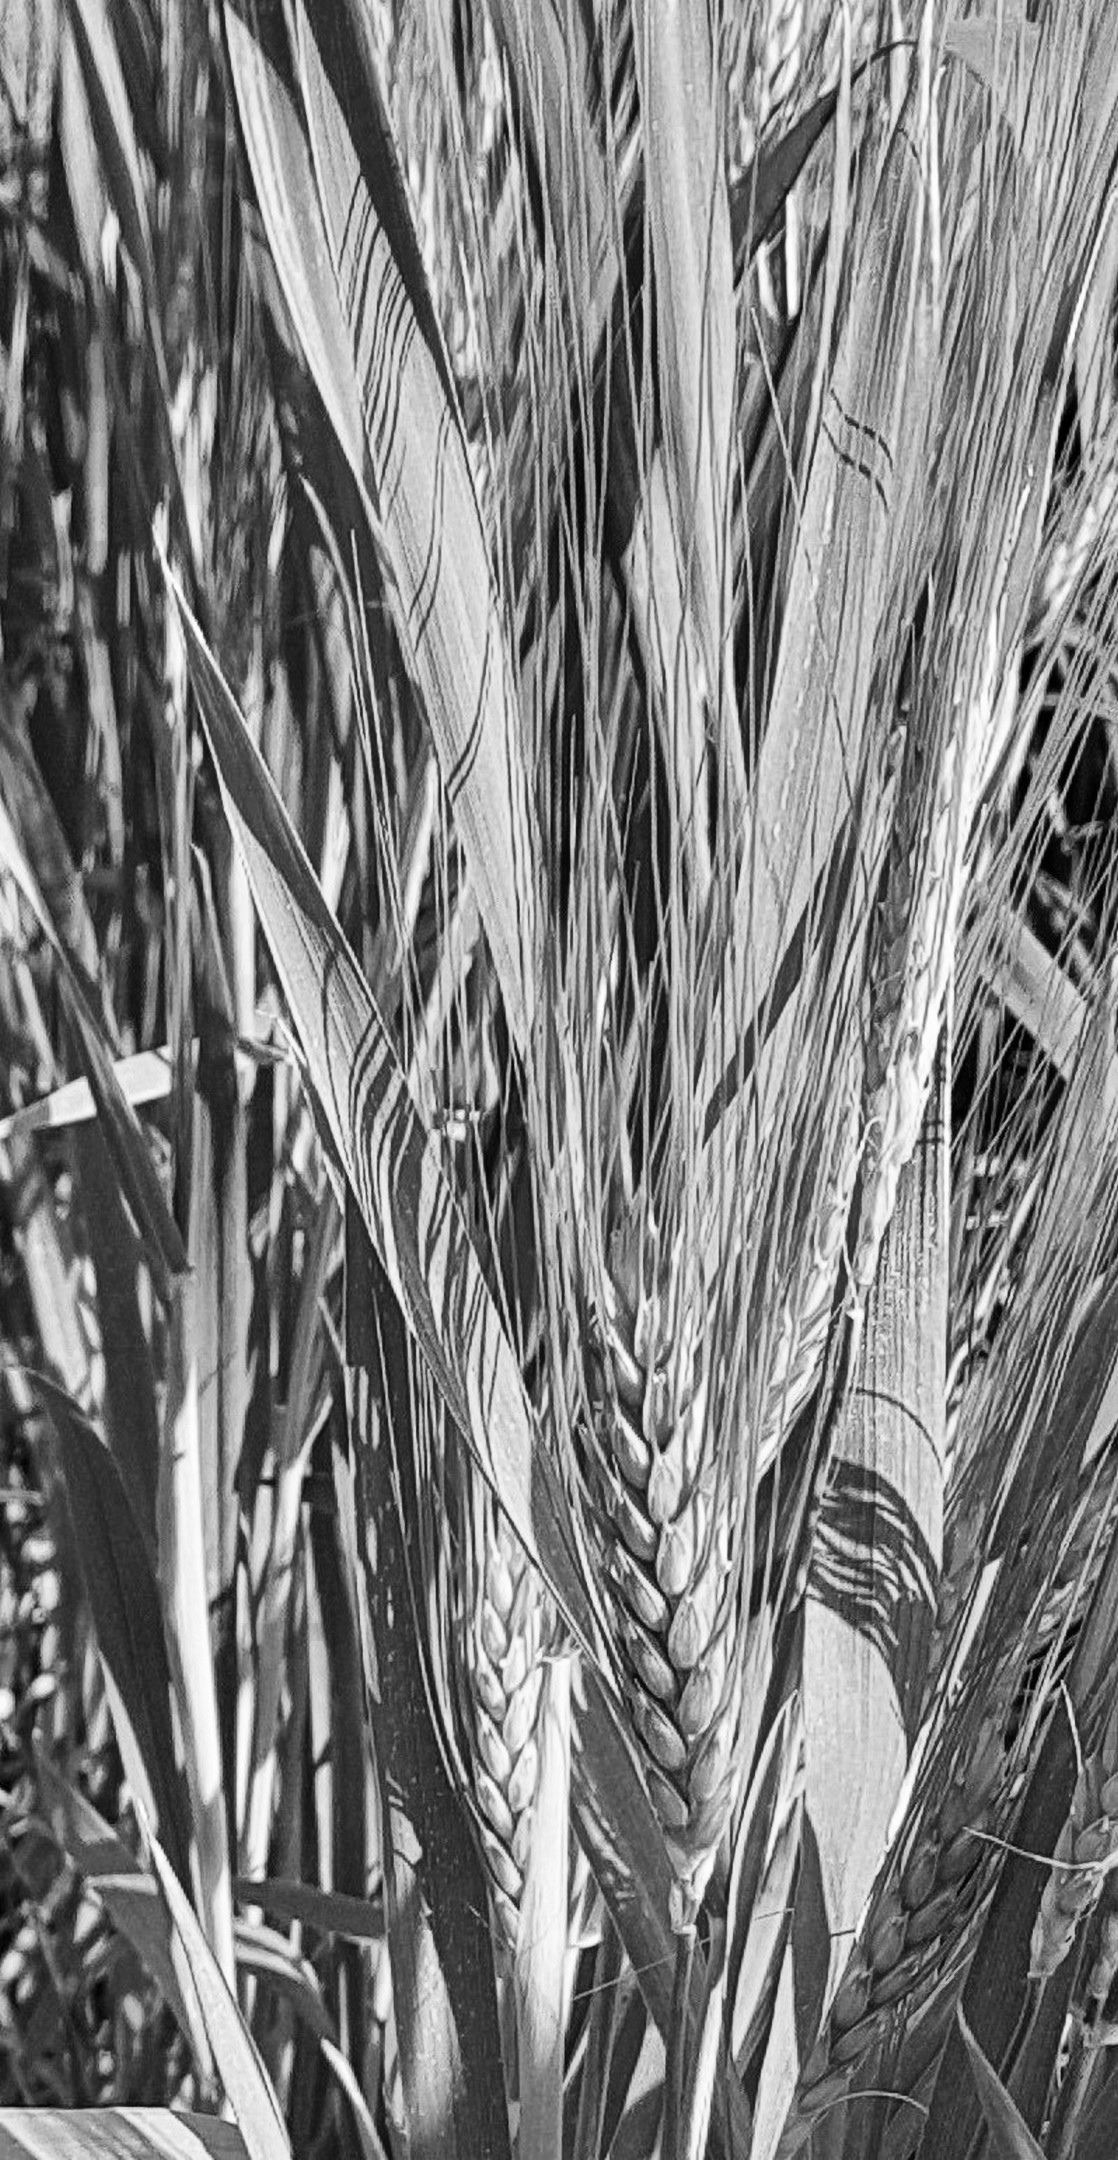Healthy Wheat: (565, 1255, 793, 1896)
